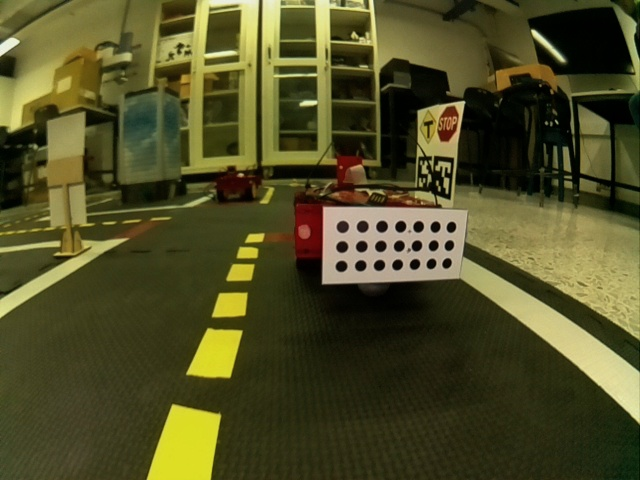vehiculo: (283, 158, 470, 314)
